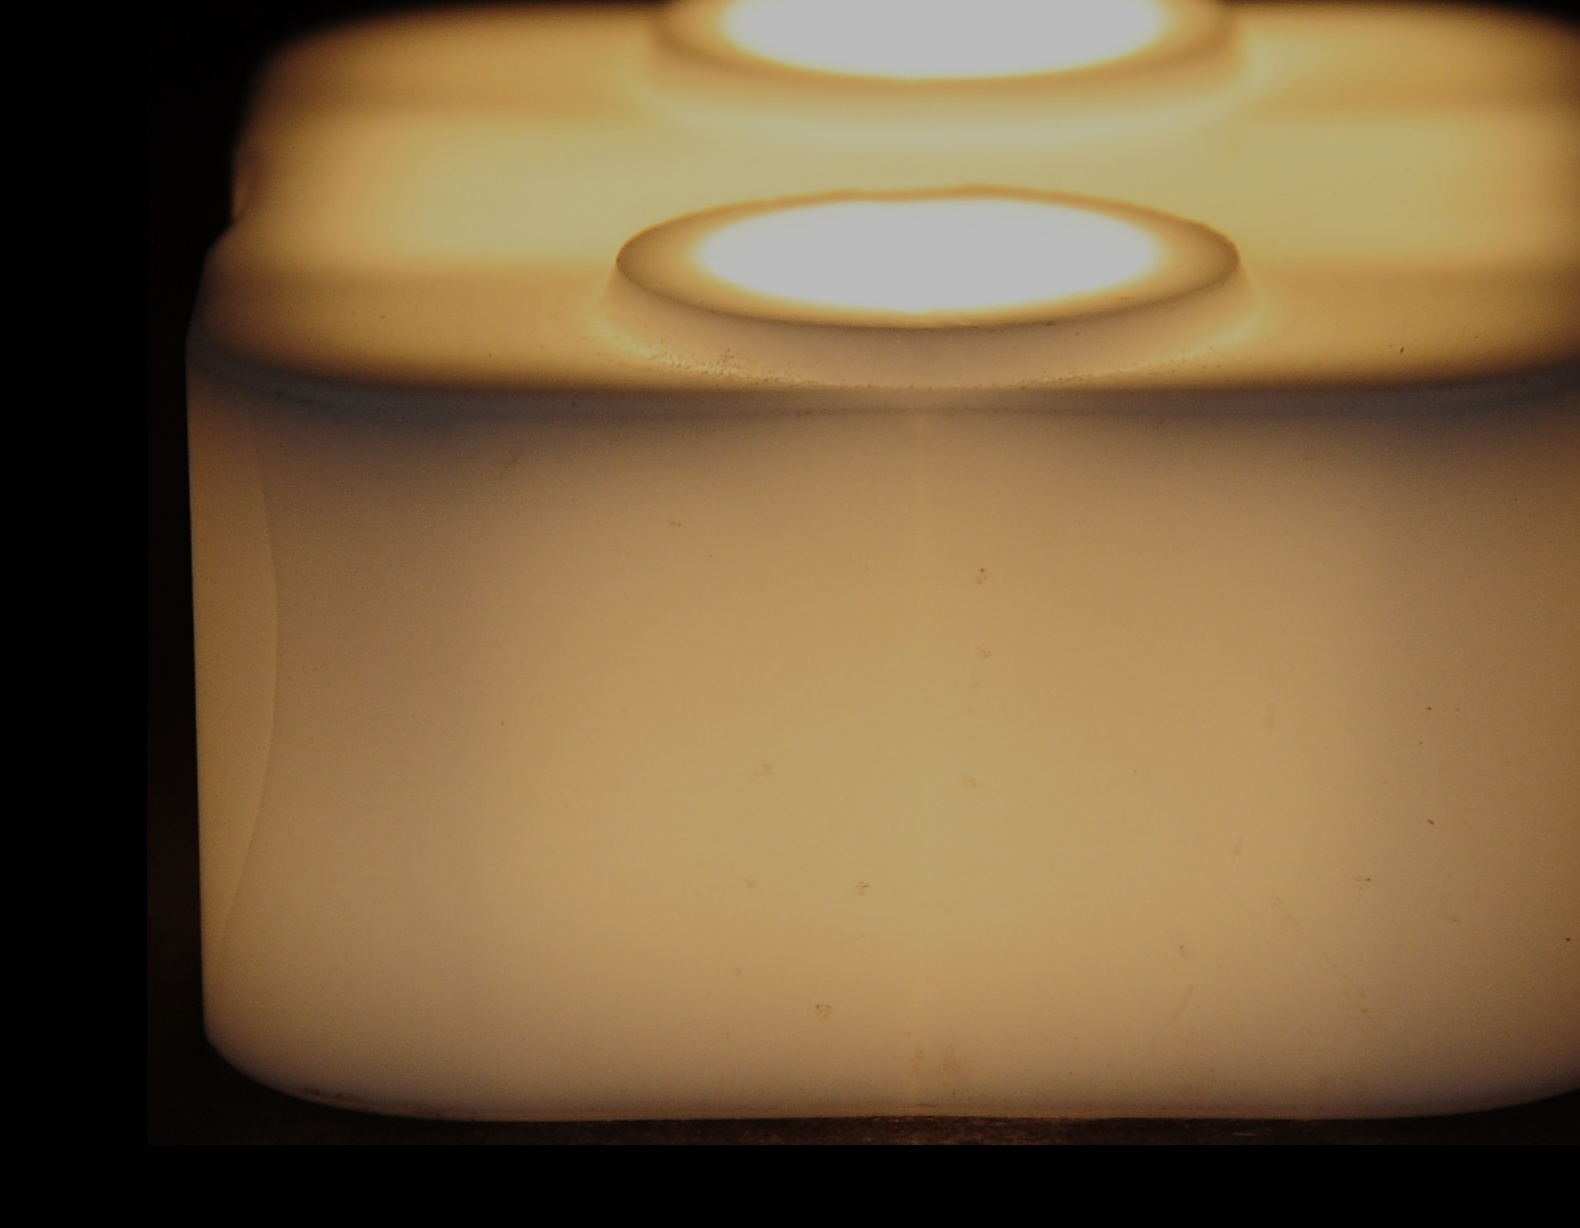flaw: (192, 370, 300, 1063)
